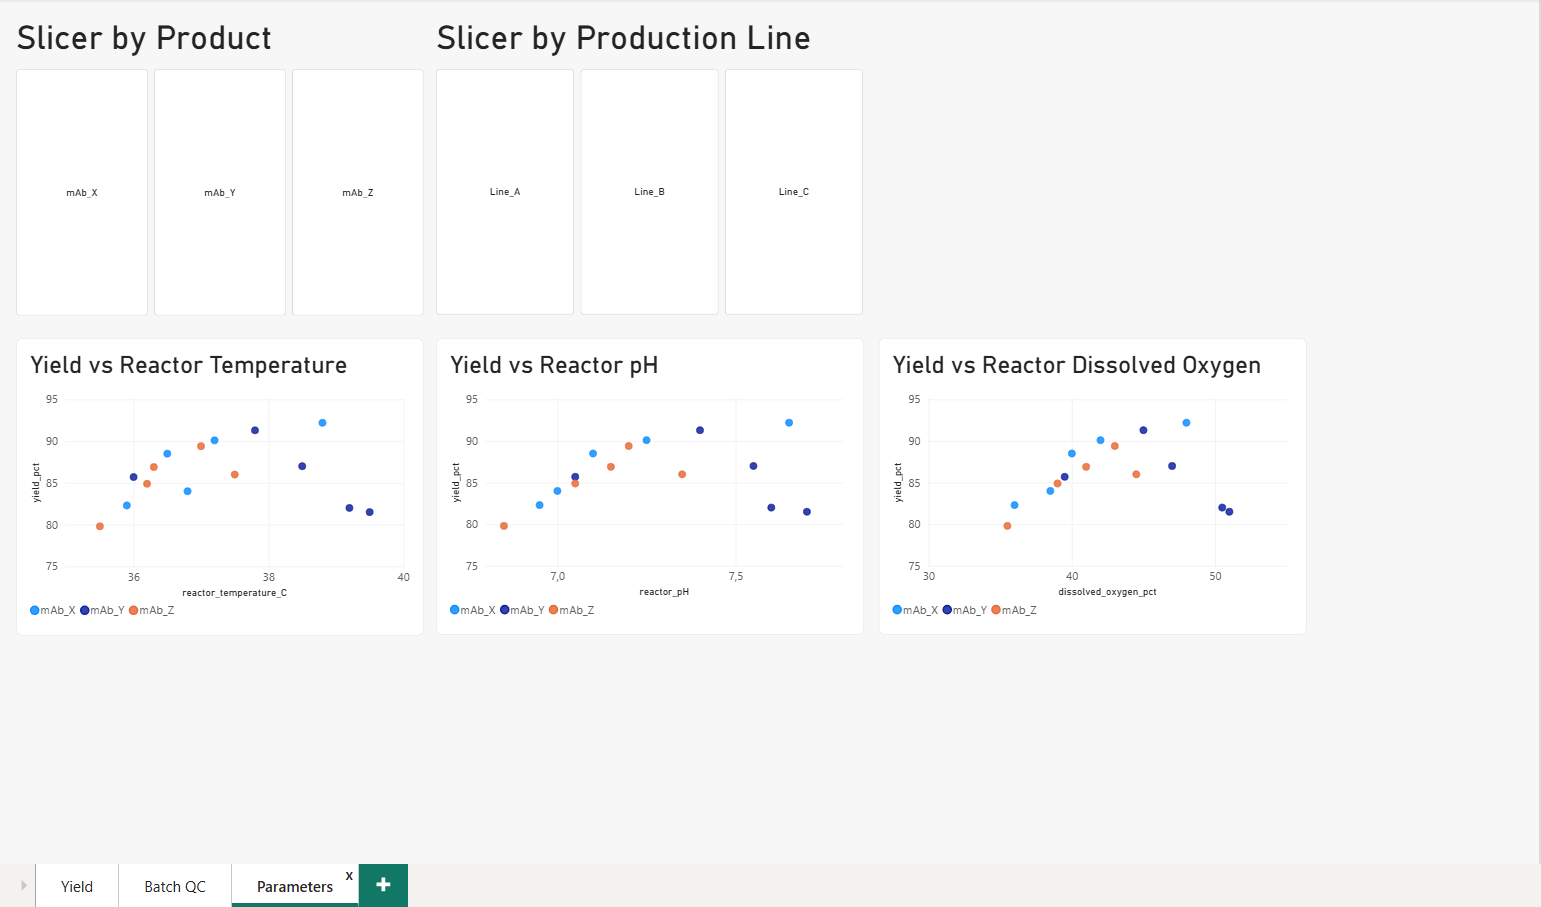

Layout of this report page (visuals, bound fields, positions):
{"tool":"powerbi","page":{"name":"Parameters","canvas":[1920,1080],"ordinal":2},"visuals":[{"type":"advancedSlicerVisual","title":"Slicer by Product","fields":{"Values":["batches_clean_for_powerbi.product_name"]},"box":[20.3,24.9,508.2,371],"z":0},{"type":"advancedSlicerVisual","title":"Slicer by Production Line","fields":{"Values":["batches_clean_for_powerbi.production_line"]},"box":[544.7,25.2,533.9,370.3],"z":1},{"type":"scatterChart","title":"Yield vs Reactor Temperature","fields":{"Series":["batches_clean_for_powerbi.product_name"],"X":["batches_clean_for_powerbi.reactor_temperature_C"],"Y":["batches_clean_for_powerbi.yield_pct"]},"box":[19.8,424.3,508,371],"z":2},{"type":"scatterChart","title":"Yield vs Reactor pH","fields":{"Series":["batches_clean_for_powerbi.product_name"],"X":["batches_clean_for_powerbi.reactor_pH"],"Y":["batches_clean_for_powerbi.yield_pct"]},"box":[544.7,424.3,533.9,370.3],"z":3},{"type":"scatterChart","title":"Yield vs Reactor Dissolved Oxygen","fields":{"Series":["batches_clean_for_powerbi.product_name"],"X":["batches_clean_for_powerbi.dissolved_oxygen_pct"],"Y":["batches_clean_for_powerbi.yield_pct"]},"box":[1096.6,424.3,533.9,370.3],"z":4}]}

Visuals, with their boxes on the page's 1920x1080 design canvas (x1, y1, x2, y2). These are canvas units, not pixel positions in the 1541x907 screenshot, which may show the page scaled, cropped or inside an application window:
"Slicer by Product" advancedSlicerVisual: <bbox>20, 25, 528, 396</bbox>
"Slicer by Production Line" advancedSlicerVisual: <bbox>545, 25, 1079, 396</bbox>
"Yield vs Reactor Temperature" scatterChart: <bbox>20, 424, 528, 795</bbox>
"Yield vs Reactor pH" scatterChart: <bbox>545, 424, 1079, 795</bbox>
"Yield vs Reactor Dissolved Oxygen" scatterChart: <bbox>1097, 424, 1630, 795</bbox>
